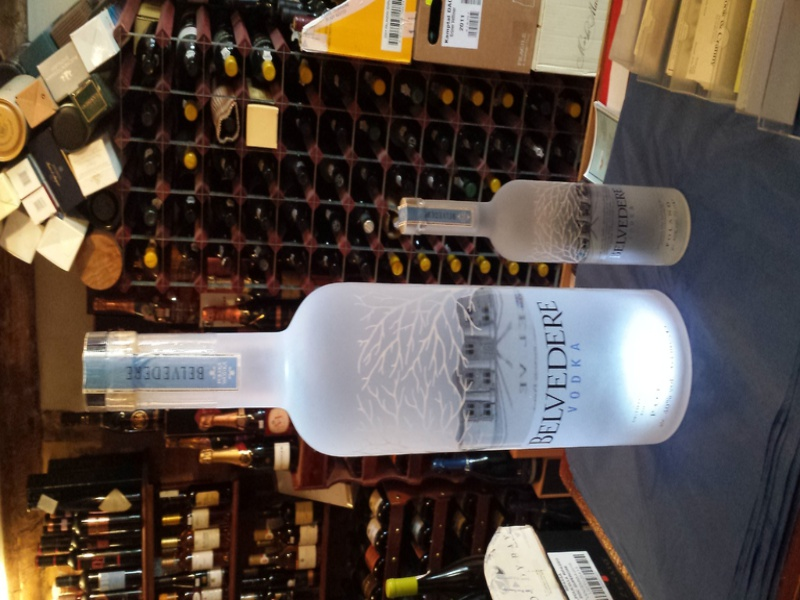wine: (2, 3, 725, 599), (78, 279, 696, 456), (382, 176, 695, 274)
